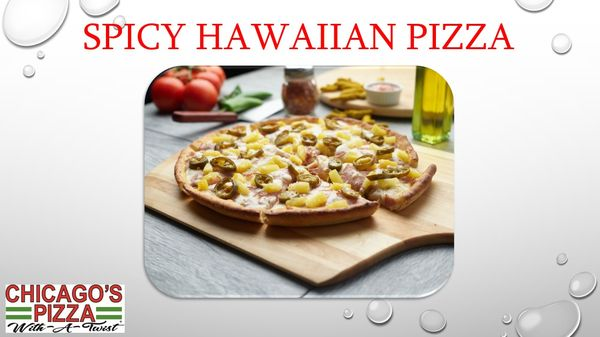steak: (148, 66, 226, 113)
sushi: (364, 81, 403, 107)
